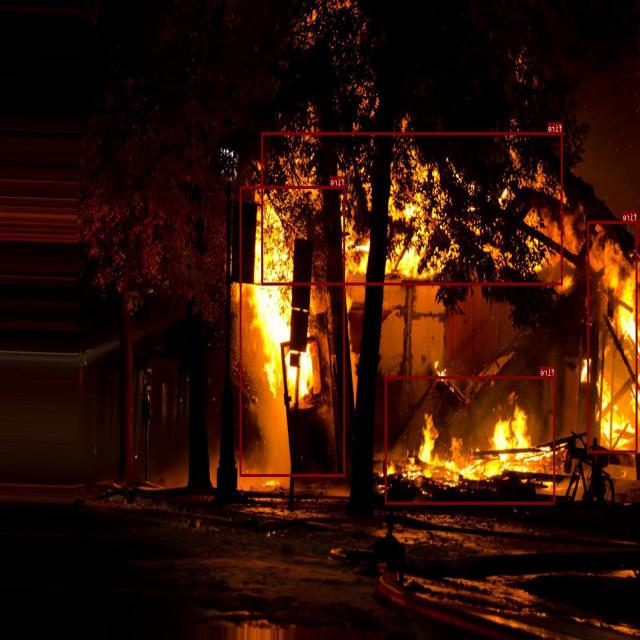fire: (262, 132, 563, 285), (240, 186, 346, 476), (385, 376, 556, 504), (588, 221, 638, 453)
